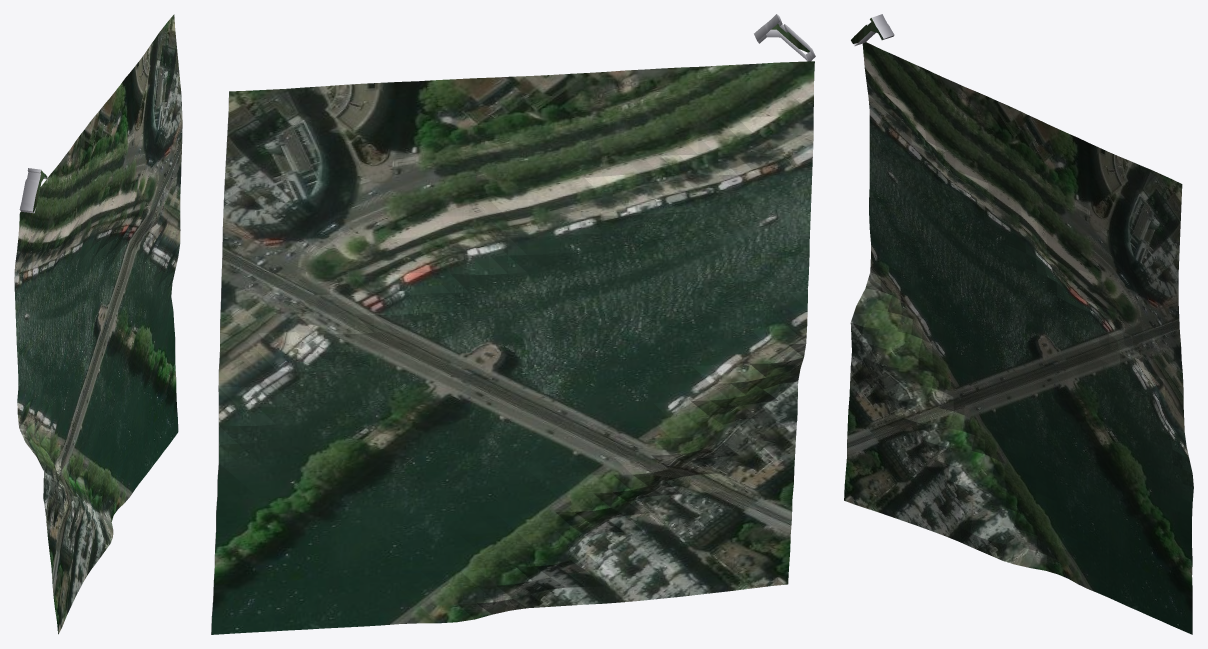
3 renders of one model, left to right at view 1: azimuth 30°, elevation 25°; view 2: azimuth 150°, elevation 25°; view 3: azimuth 270°, elevation 25°, orthographic. The views are drawn at different scales.
Size of the model in its own units: 316 by 434 by 286.
1 material, 1 textured.
